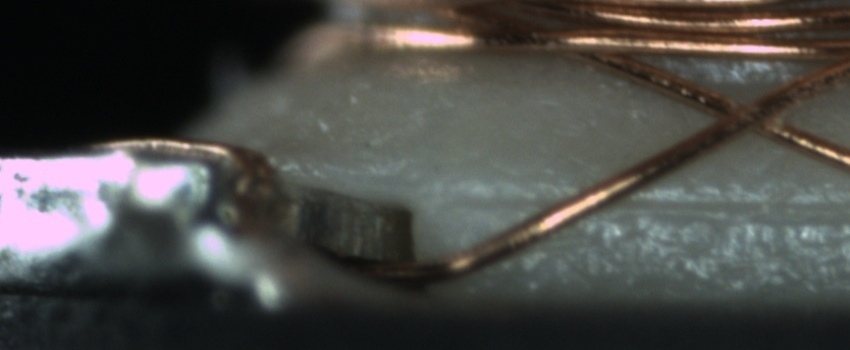CL: (699, 85, 797, 144)
DL: (452, 178, 849, 233)
TE: (84, 128, 281, 219)
